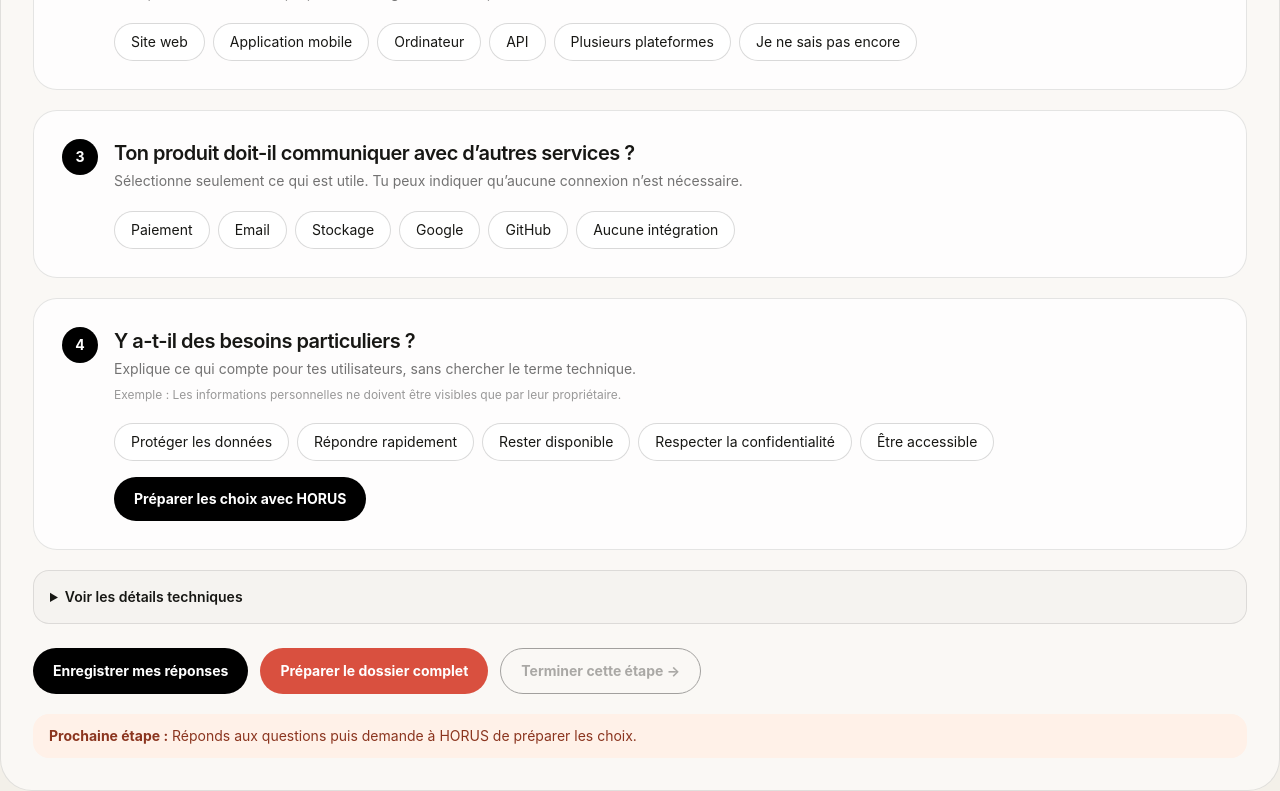
DesignWorkspace guidé › prépare et génère le dossier complet de bout en bout
The image size is (1280, 791).
(page scrolled)
Click the button "Préparer le dossier complet".
click(374, 671)  # box [260,648,488,694]
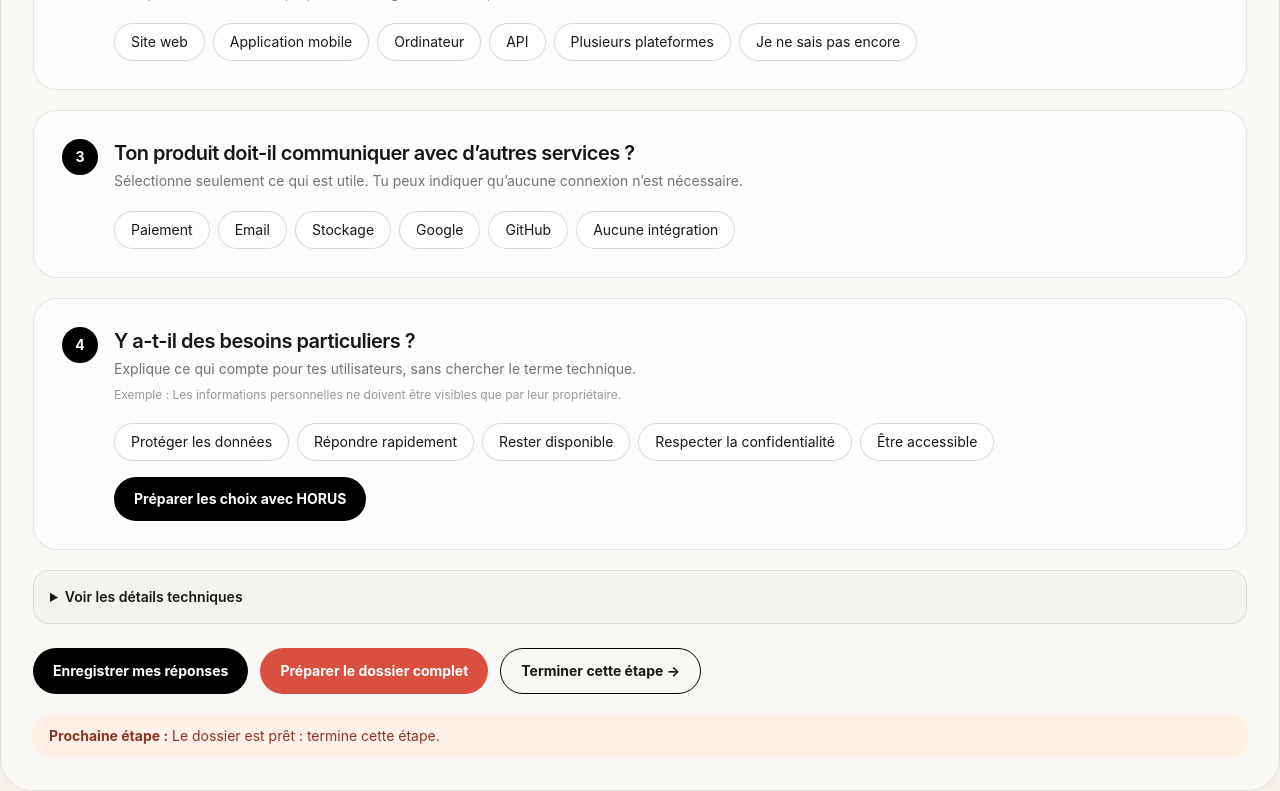
Expected: the text "Prochaine étape : Le dossier est prêt : termine cette étape." is shown, [33,714,1247,758]
